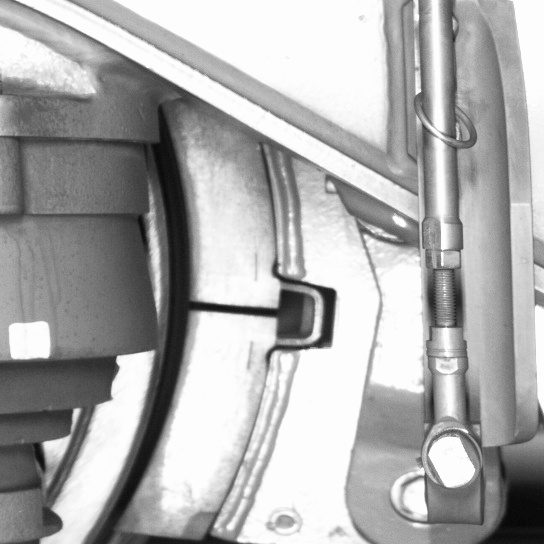KnifeSwitch: (84, 144, 277, 541)
